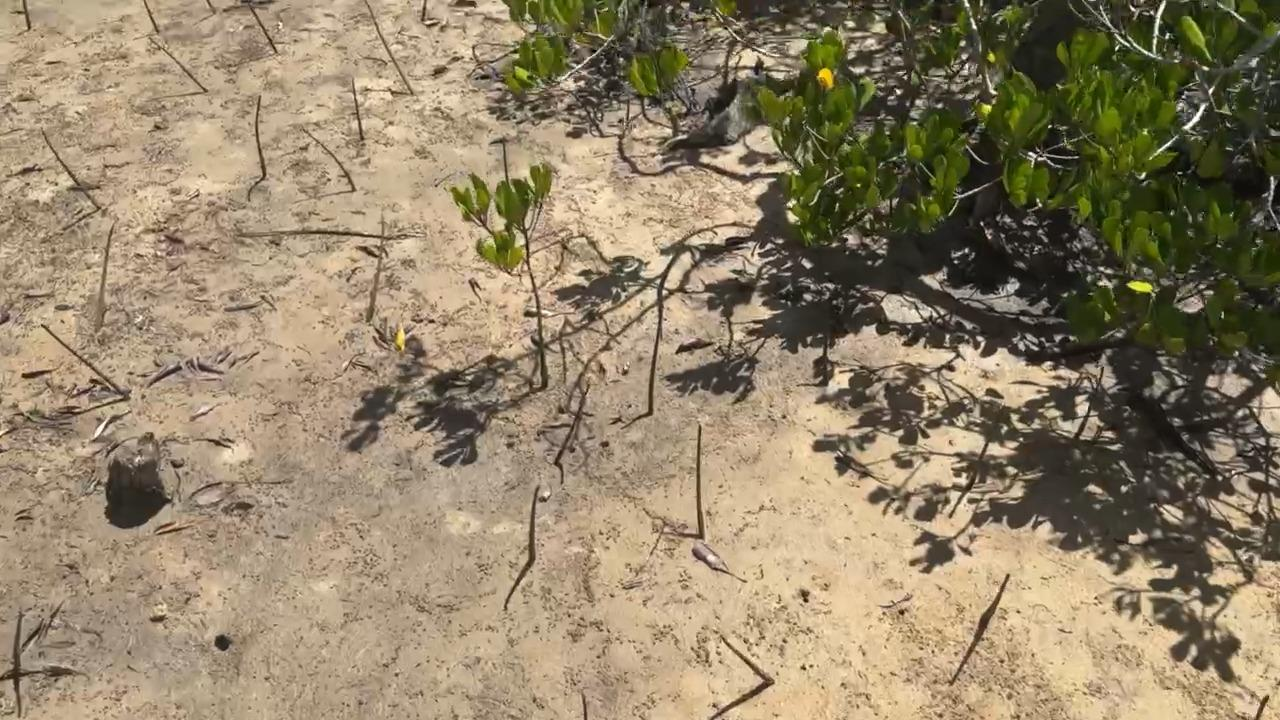Tree: (442, 157, 558, 390), (38, 323, 130, 400), (40, 127, 101, 208), (363, 0, 414, 95), (947, 436, 993, 519), (302, 128, 359, 191), (147, 36, 208, 92), (362, 208, 390, 323), (643, 293, 668, 416), (970, 573, 1009, 648), (719, 634, 775, 683), (94, 221, 119, 328), (1073, 366, 1106, 438), (9, 608, 26, 719), (244, 0, 277, 53), (488, 135, 514, 185), (695, 423, 706, 541), (527, 485, 542, 561), (256, 95, 266, 177), (351, 76, 363, 139), (142, 0, 158, 34), (1255, 695, 1268, 720), (22, 0, 31, 30), (579, 688, 586, 720), (419, 0, 429, 21), (206, 0, 216, 15)
